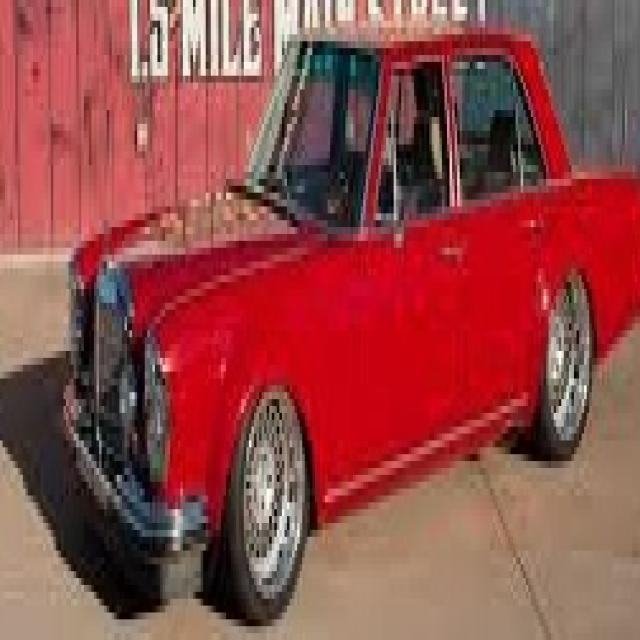red: (66, 0, 640, 557)
